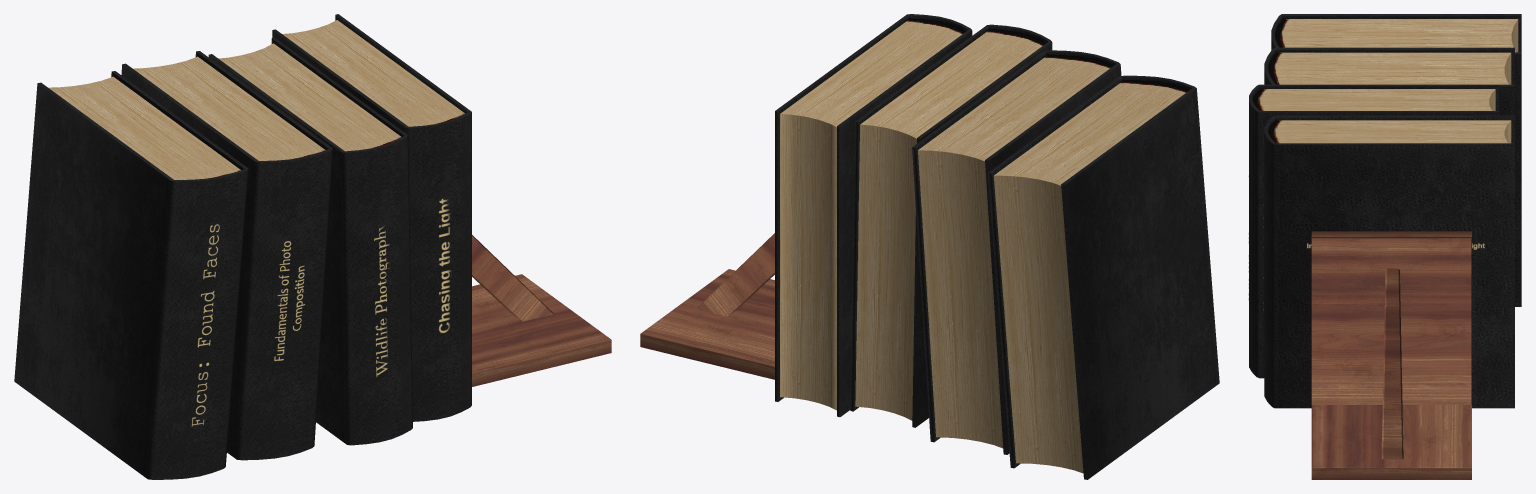
Rendered from books.glb.
The picture shows the model from 3 angles, left to right: view 1: azimuth 30°, elevation 25°; view 2: azimuth 150°, elevation 25°; view 3: azimuth 270°, elevation 25°; orthographic projection. The views are drawn at different scales.
Visible parts, largest first — view 1: book_4_M_books_0, book_3_M_books_0, book_2, book_1, wooden, book_3_M_text_0, book_4_M_text_0; view 2: book_4_M_books_0, book_3_M_books_0, book_1, book_2, wooden; view 3: book_1, wooden, book_2, book_4_M_books_0, book_3_M_books_0.
Boxes of the visible parts, x1,y1,x2,y2 form: book_4_M_books_0: (14, 71, 248, 479); book_3_M_books_0: (121, 51, 333, 460); book_2: (208, 37, 412, 445); book_1: (272, 14, 471, 421); wooden: (472, 235, 611, 386); book_3_M_text_0: (274, 241, 305, 360); book_4_M_text_0: (191, 224, 219, 426); book_4_M_books_0: (988, 75, 1219, 479); book_3_M_books_0: (912, 50, 1121, 454); book_1: (775, 14, 972, 417); book_2: (850, 24, 1052, 427); wooden: (640, 233, 774, 379); book_1: (1263, 115, 1514, 408); wooden: (1311, 231, 1471, 479); book_2: (1248, 84, 1499, 378); book_4_M_books_0: (1271, 14, 1521, 306); book_3_M_books_0: (1264, 47, 1514, 115).
Bounding box in the file's own units: 28.63 × 17.17 × 15.72.
2 materials, 2 textured.
